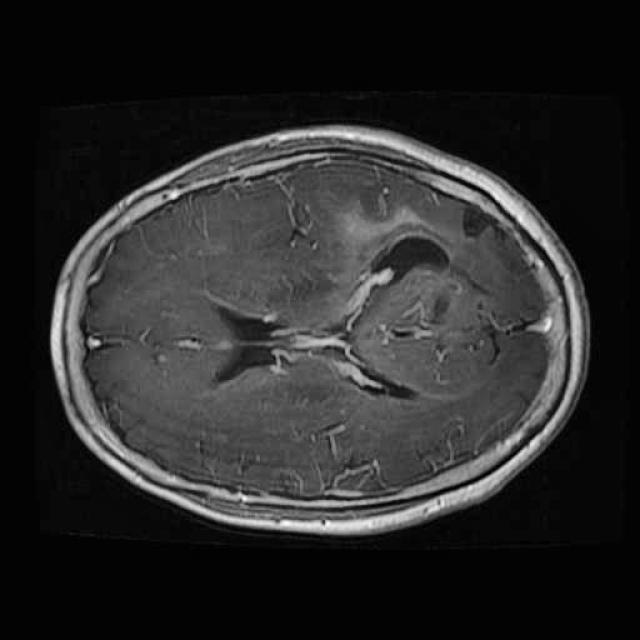Non-Tumor: (322, 189, 456, 335)
